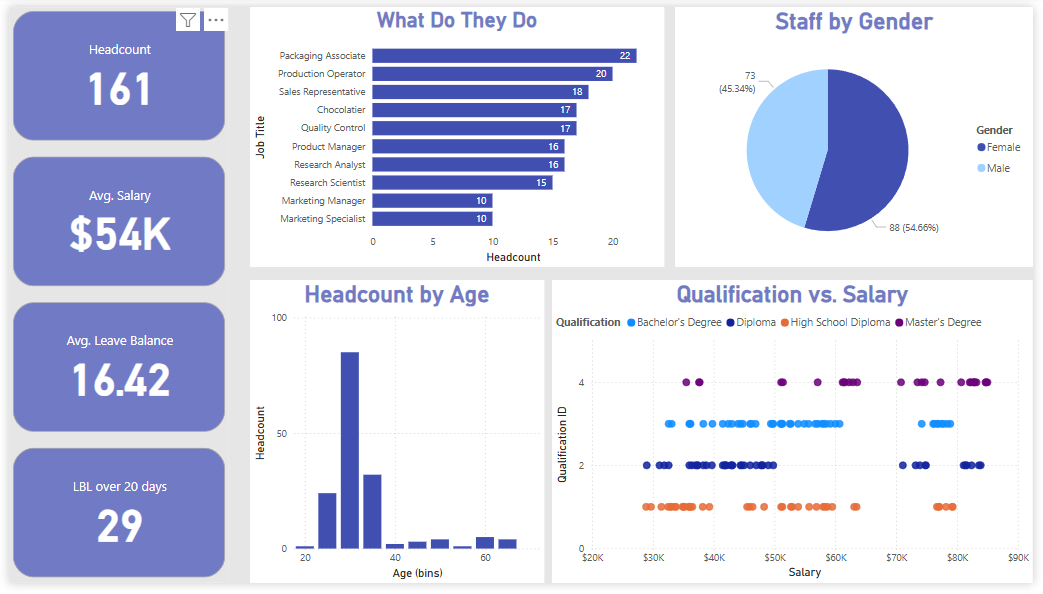

Layout of this report page (visuals, bound fields, positions):
{"tool":"powerbi","page":{"name":"(Q10) HR Dashboard","canvas":[1280,720],"ordinal":9},"visuals":[{"type":"cardVisual","fields":{"Data":["staff.Headcount","staff.Avg. Salary","staff.Avg. Leave Balance","staff.LBL over 20 days"]},"box":[0,0,275,720],"z":0},{"type":"clusteredBarChart","title":"What Do They Do","fields":{"Category":["staff.Job Title"],"Y":["staff.Headcount"]},"box":[301.2,0,517.5,325],"z":1000},{"type":"pieChart","title":"Staff by Gender","fields":{"Category":["staff.Gender"],"Y":["staff.Headcount"]},"box":[832.5,0,447.5,325],"z":2000},{"type":"clusteredColumnChart","title":"Headcount by Age","fields":{"Category":["staff.Age (bins)"],"Y":["staff.Headcount"]},"box":[301.2,341.2,367.5,378.8],"z":3000},{"type":"scatterChart","title":"Qualification vs. Salary","fields":{"X":["staff.Salary"],"Y":["qual.Qualification ID"],"Series":["qual.Qualification"]},"box":[678.8,341.2,601.2,378.8],"z":3001}]}

Visuals, with their boxes in screenshot pixels (x1, y1, x2, y2), scaled from the page's 1280x720 canvas onto the 1043x594 screenshot:
cardVisual - staff.Headcount x staff.Avg. Salary: x1=0 y1=0 x2=224 y2=593
"What Do They Do" clusteredBarChart: x1=245 y1=0 x2=667 y2=268
"Staff by Gender" pieChart: x1=678 y1=0 x2=1042 y2=268
"Headcount by Age" clusteredColumnChart: x1=245 y1=281 x2=545 y2=593
"Qualification vs. Salary" scatterChart: x1=553 y1=281 x2=1042 y2=593
